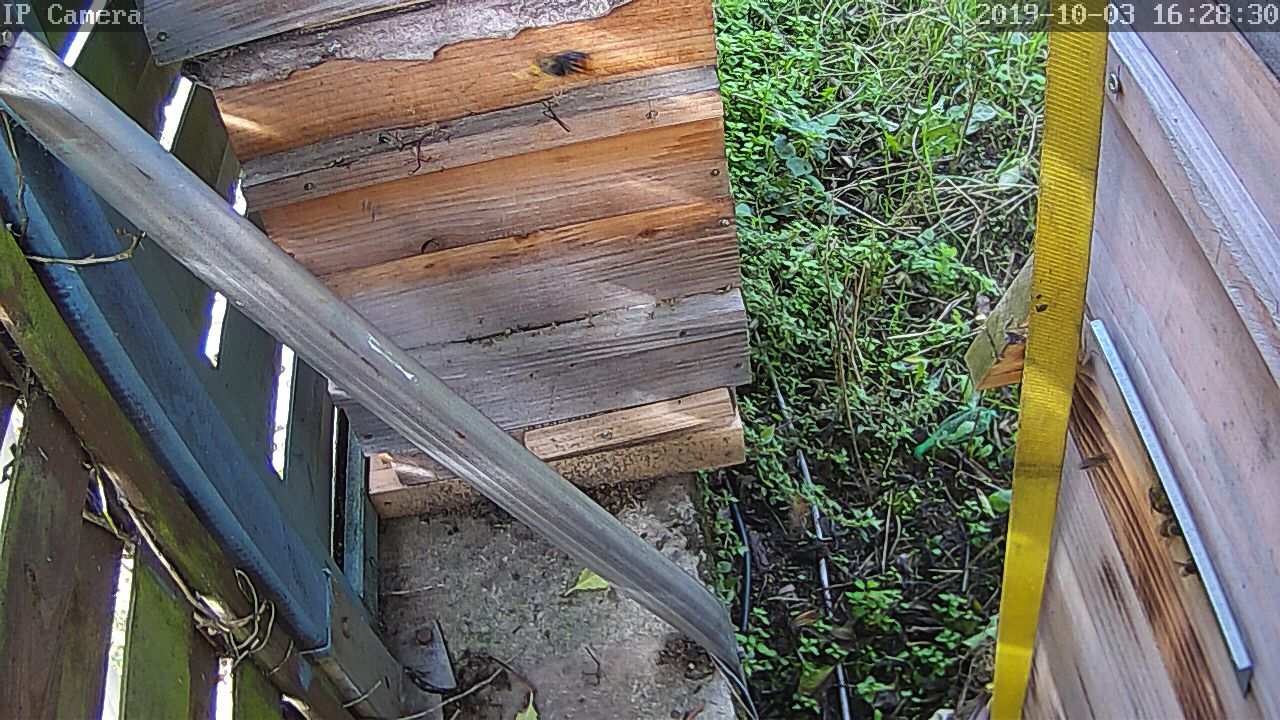bee: (1103, 450, 1135, 485), (1148, 488, 1178, 522)
hornet: (513, 46, 606, 89), (762, 594, 811, 652), (999, 321, 1031, 368)
